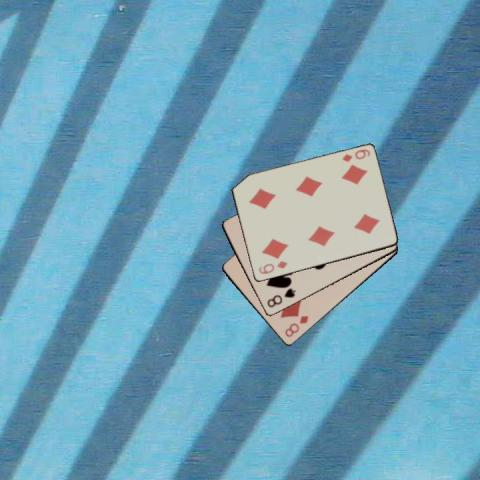6d: (255, 258, 289, 275), (339, 147, 371, 163)
8d: (282, 312, 310, 338)
8s: (264, 286, 297, 310)
